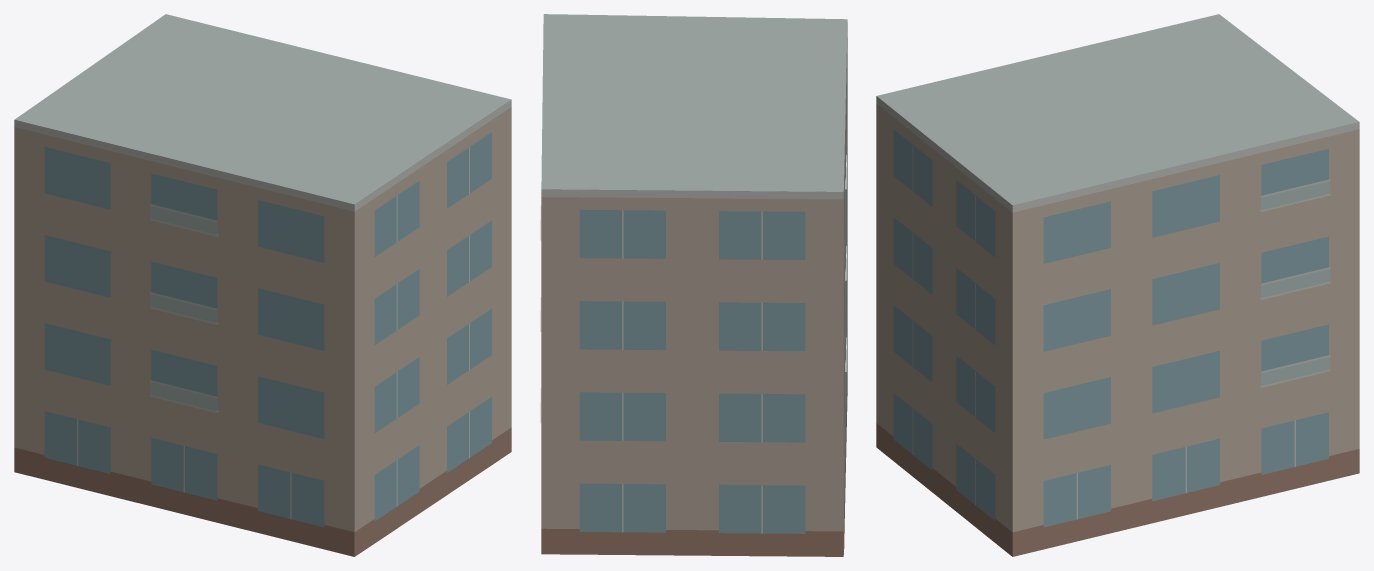
The model's file is survey-upis-32924154.glb.
3 views of the same model, side by side, from view 1: azimuth 30°, elevation 25°; view 2: azimuth 150°, elevation 25°; view 3: azimuth 270°, elevation 25° (orthographic). The views are drawn at different scales.
Visible parts, largest first — view 1: survey-upis-32924154.tmp; view 2: survey-upis-32924154.tmp; view 3: survey-upis-32924154.tmp.
Part boxes in pixels (x1=…): survey-upis-32924154.tmp: x1=14, y1=14, x2=511, y2=556; survey-upis-32924154.tmp: x1=540, y1=14, x2=847, y2=556; survey-upis-32924154.tmp: x1=876, y1=14, x2=1359, y2=556.
Bounding box in the file's own units: 13.8 × 11.8 × 14.71.
